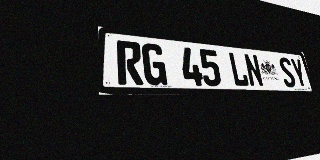4: (180, 47, 204, 86)
5: (199, 49, 222, 86)
G: (141, 43, 167, 85)
L: (228, 52, 250, 87)
N: (243, 53, 264, 87)
R: (116, 40, 144, 85)
S: (277, 57, 297, 87)
Y: (289, 58, 308, 88)
